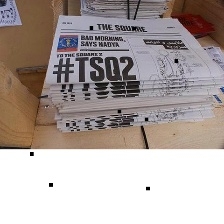news_paper: (41, 11, 224, 133)
